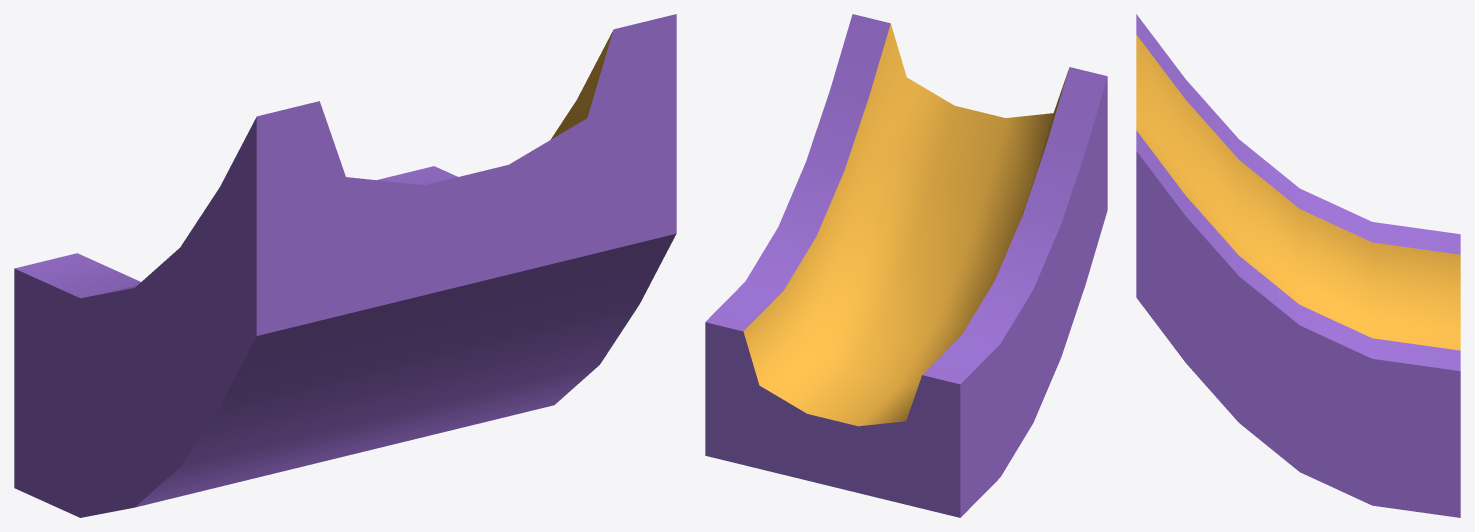
The model's file is ramp-start-d.glb.
3 renders of one model, left to right at view 1: azimuth 30°, elevation 25°; view 2: azimuth 150°, elevation 25°; view 3: azimuth 270°, elevation 25°, orthographic. The views are drawn at different scales.
Visible parts, largest first — view 1: ramp-start-d; view 2: ramp-start-d; view 3: ramp-start-d.
Boxes of the visible parts, left/top/right/bottom form: ramp-start-d: left=14, top=14, right=676, bottom=517; ramp-start-d: left=705, top=14, right=1107, bottom=517; ramp-start-d: left=1136, top=14, right=1460, bottom=517.
Bounding box in the file's own units: 1 × 1.25 × 1.
Materials: 1 (1 with a texture image).
